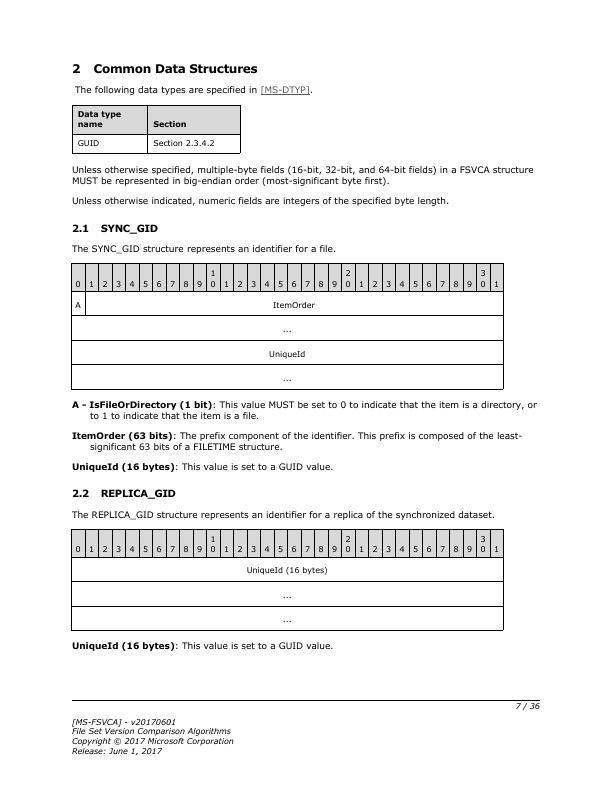table: (68, 261, 507, 392), (69, 528, 506, 633), (73, 105, 243, 156)
text: (68, 428, 524, 454), (68, 398, 540, 422), (70, 162, 536, 186), (68, 714, 235, 760), (70, 508, 498, 522), (70, 193, 452, 207), (68, 241, 339, 256), (73, 82, 315, 97), (68, 460, 335, 473), (68, 639, 335, 651), (70, 60, 258, 75), (66, 485, 182, 502), (68, 219, 161, 238)
